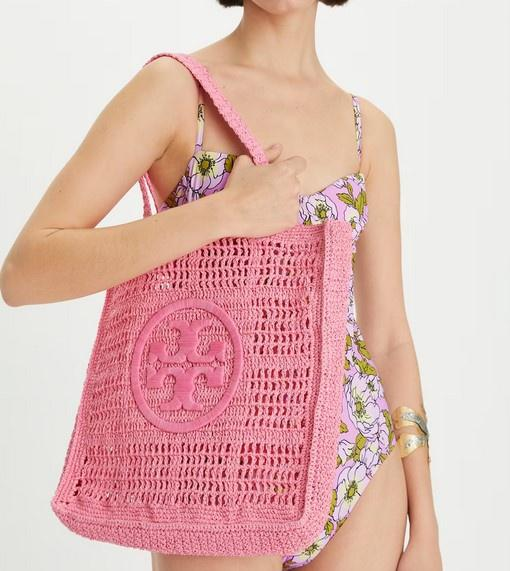TORY-BURCH: (131, 298, 243, 434)
